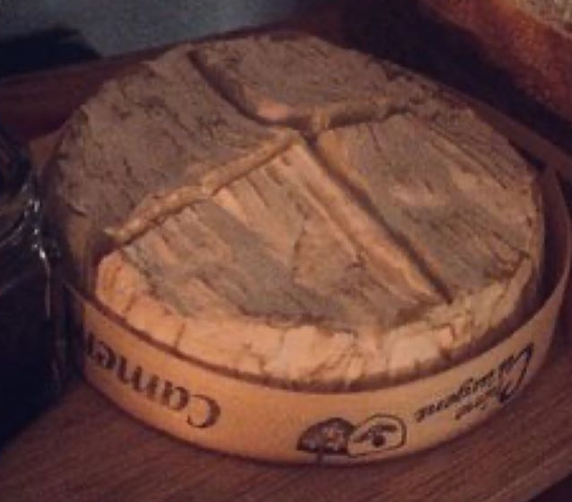camembert: (40, 32, 553, 401)
